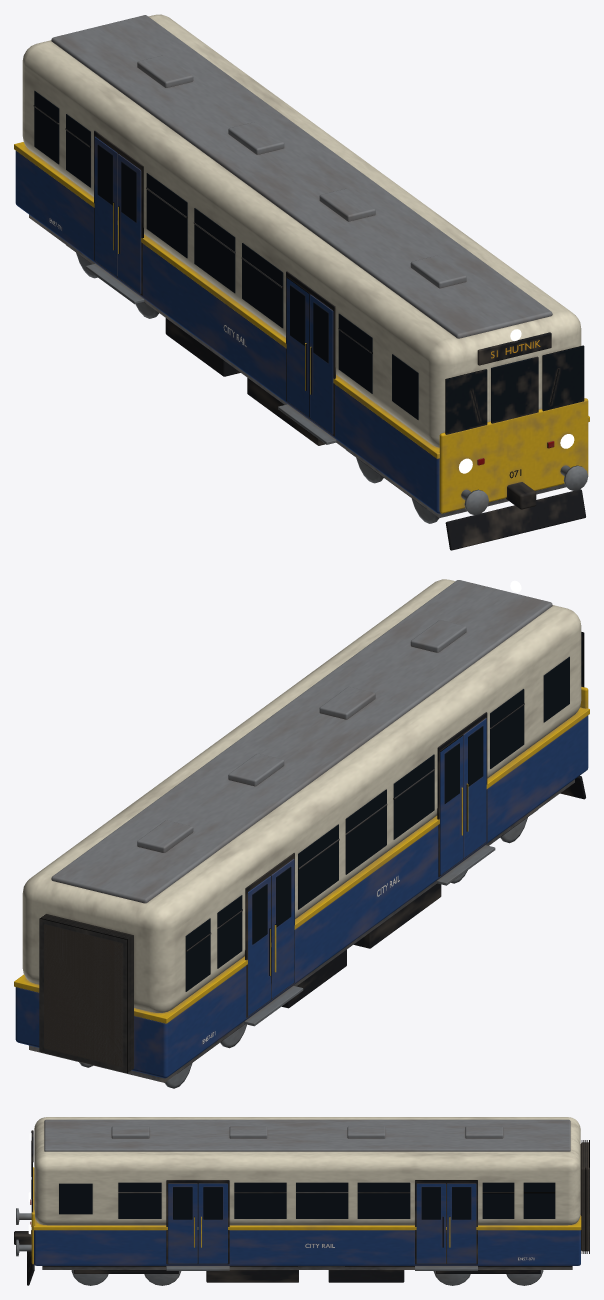
File: kolejka_czolo.glb
3 views of the same model, one above another, from view 1: azimuth 30°, elevation 25°; view 2: azimuth 150°, elevation 25°; view 3: azimuth 270°, elevation 25° (orthographic). The views are drawn at different scales.
Visible parts, largest first — view 1: Nadwozie, Detale, Okna; view 2: Nadwozie, Detale, Okna; view 3: Nadwozie, Detale, Okna.
Part boxes in pixels (x1=…): Nadwozie: x1=14, y1=14, x2=589, y2=513; Detale: x1=29, y1=105, x2=588, y2=550; Okna: x1=34, y1=90, x2=418, y2=419; Nadwozie: x1=14, y1=579, x2=589, y2=1078; Detale: x1=29, y1=632, x2=585, y2=1088; Okna: x1=185, y1=656, x2=569, y2=991; Nadwozie: x1=31, y1=1117, x2=581, y2=1265; Detale: x1=14, y1=1130, x2=589, y2=1285; Okna: x1=59, y1=1182, x2=555, y2=1219.
Size of the model in its own units: 3 by 3.72 by 13.68.
Materials: 7 (2 with a texture image).
